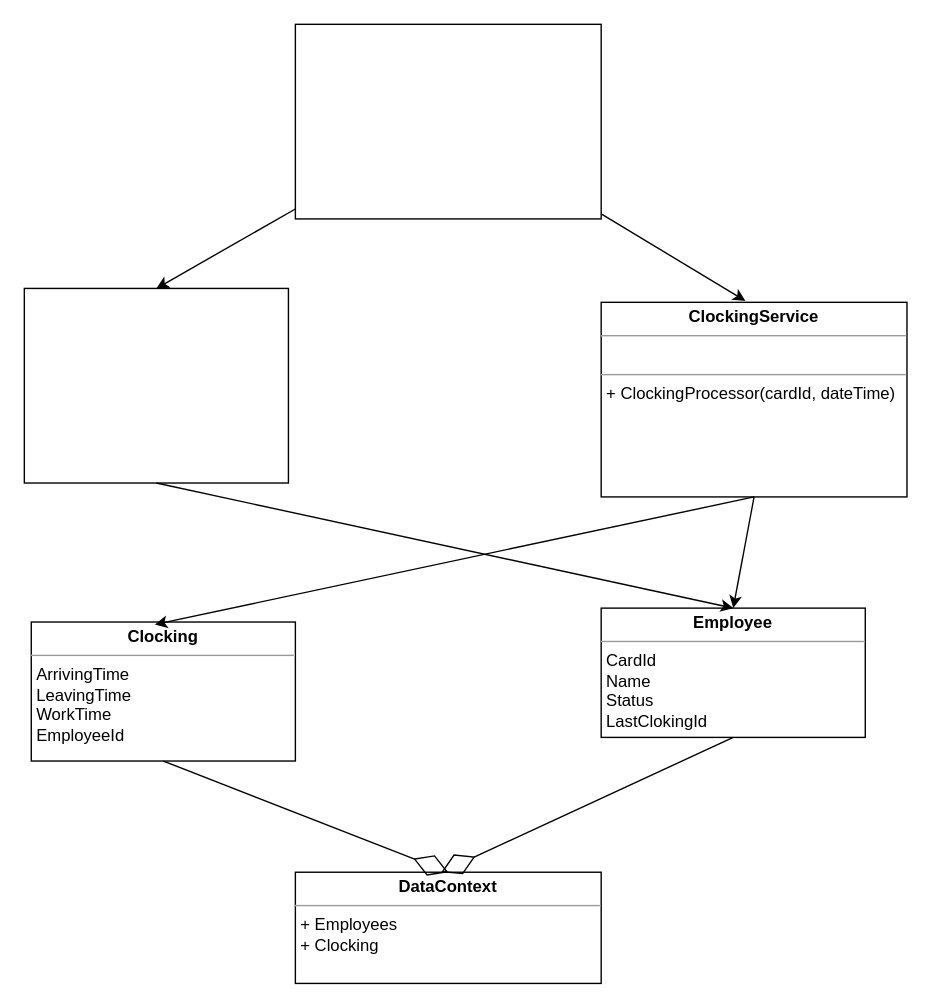
Some shapes in this 931 by 1008 pixel diagram are drawn without their labels. Here are the shapes that lost their labels. From the top down, the box of each, then its label:
(294, 23, 601, 219): APIController + GetEmployeeState() + GetEmployeeResume() + GetArduinoCommand()
(23, 287, 288, 483): ArduinoService + GetData(): + ValidateCard():
